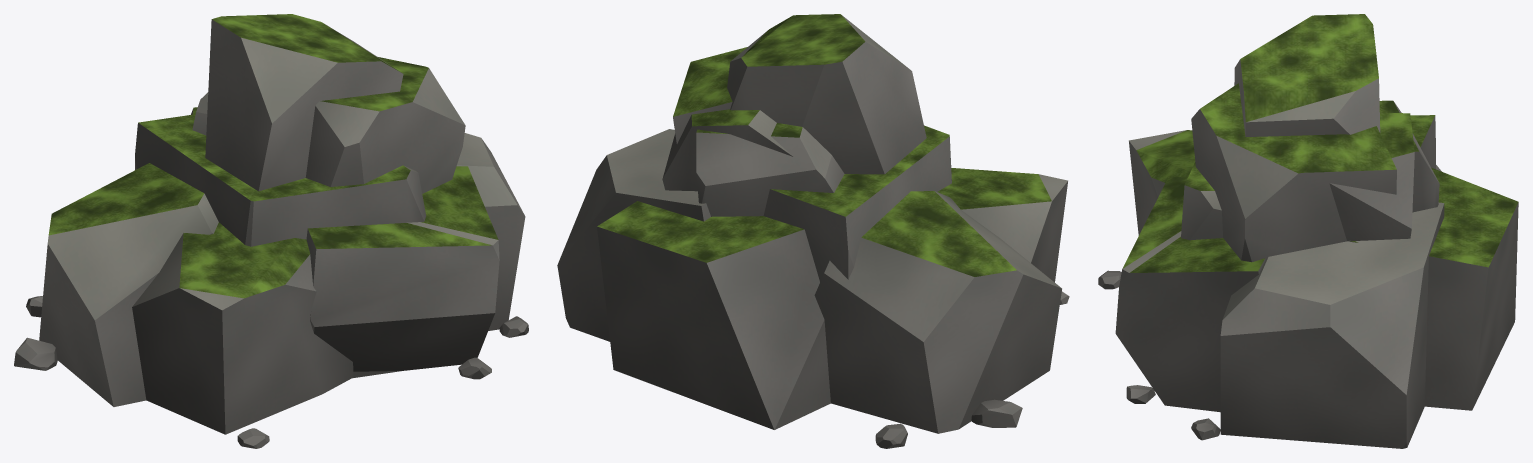
Rendered from Cracked_rock_04.lod1.glb.
The picture shows the model from 3 angles, left to right: view 1: azimuth 30°, elevation 25°; view 2: azimuth 150°, elevation 25°; view 3: azimuth 270°, elevation 25°; orthographic projection.
Visible parts, largest first — view 1: Rock; view 2: Rock; view 3: Rock.
Part boxes in pixels (left/top/right/bottom): Rock: left=14, top=14, right=528, bottom=448; Rock: left=557, top=14, right=1069, bottom=448; Rock: left=1098, top=14, right=1518, bottom=448.
Bounding box in the file's own units: 3.62 × 2.39 × 2.93.
2 materials, 2 textured.
